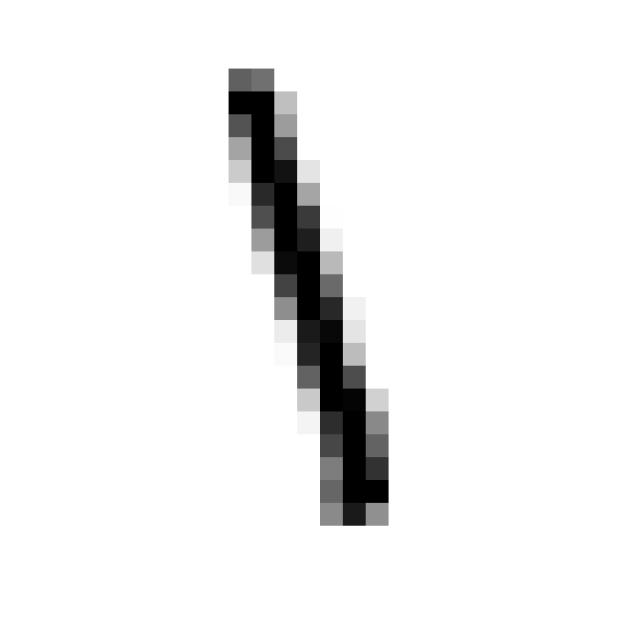1 -one-: (203, 46, 403, 538)
